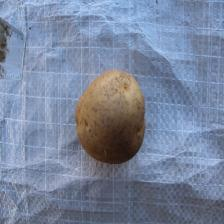Diseased-fungal potato: (74, 68, 147, 166)
